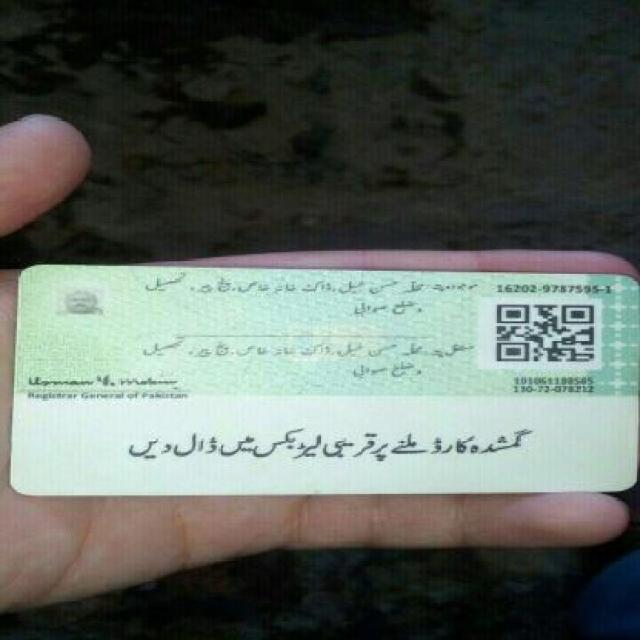Back: (8, 252, 630, 503)
